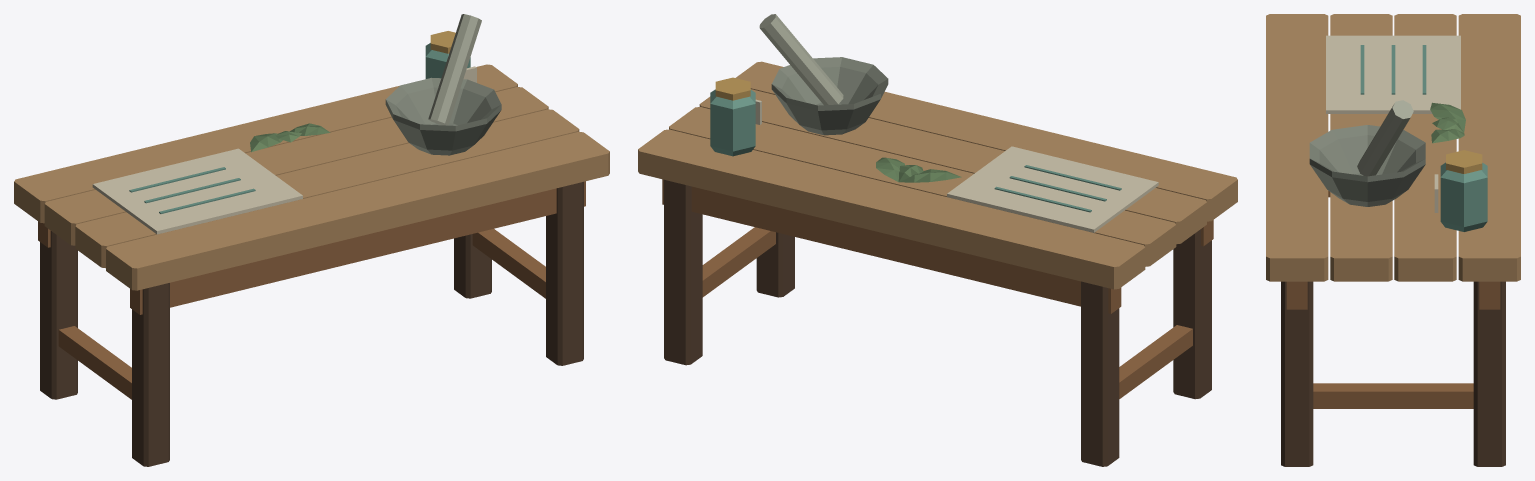
The model's file is desk_herbalist.glb.
The picture shows the model from 3 angles, left to right: view 1: azimuth 30°, elevation 25°; view 2: azimuth 150°, elevation 25°; view 3: azimuth 270°, elevation 25°; orthographic projection. The views are drawn at different scales.
Parts seen in each view (by area): view 1: geometry; view 2: geometry; view 3: geometry.
Boxes of the visible parts, box(x1,y1,x2,y2) form: geometry: box(14, 14, 609, 466); geometry: box(638, 14, 1237, 466); geometry: box(1266, 14, 1520, 466).
Size of the model in its own units: 1.8 by 1.15 by 0.794.
